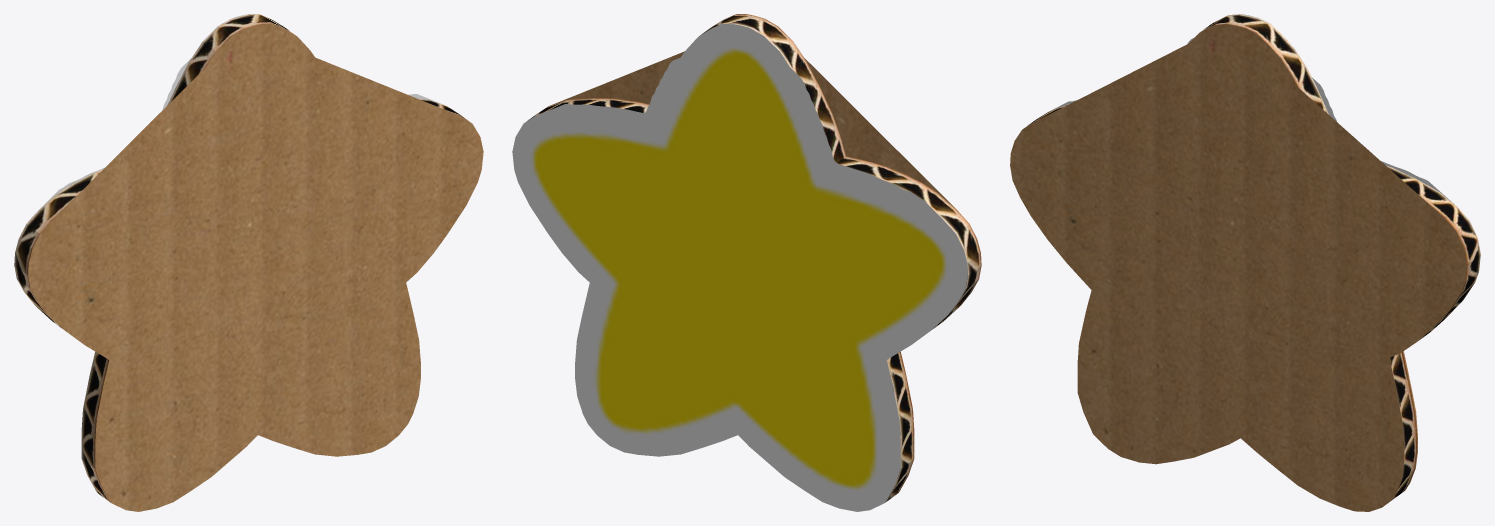
File: cardboardStar_Fixed.fbx
3 views of the same model, side by side, from view 1: azimuth 30°, elevation 25°; view 2: azimuth 150°, elevation 25°; view 3: azimuth 330°, elevation 25° (orthographic).
Parts seen in each view (by area): view 1: cardboardStar; view 2: cardboardStar; view 3: cardboardStar.
Boxes of the visible parts, left/top/right/bottom form: cardboardStar: left=14, top=14, right=483, bottom=511; cardboardStar: left=512, top=14, right=981, bottom=511; cardboardStar: left=1010, top=14, right=1480, bottom=511.
Size of the model in its own units: 82 by 78.92 by 4.29.
